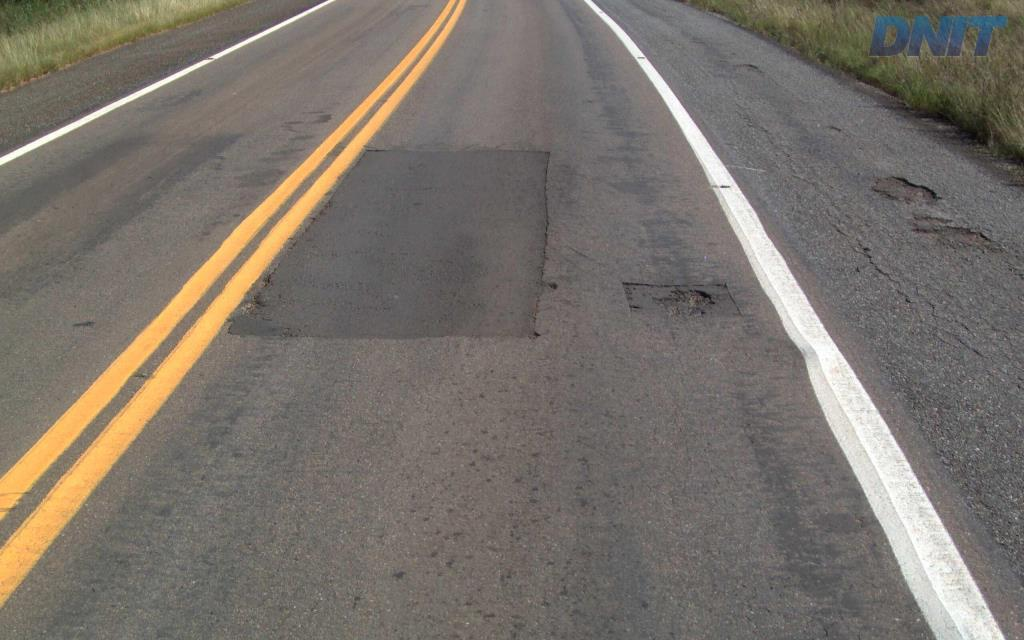crack: (525, 150, 558, 328)
pothole: (654, 286, 717, 319)
